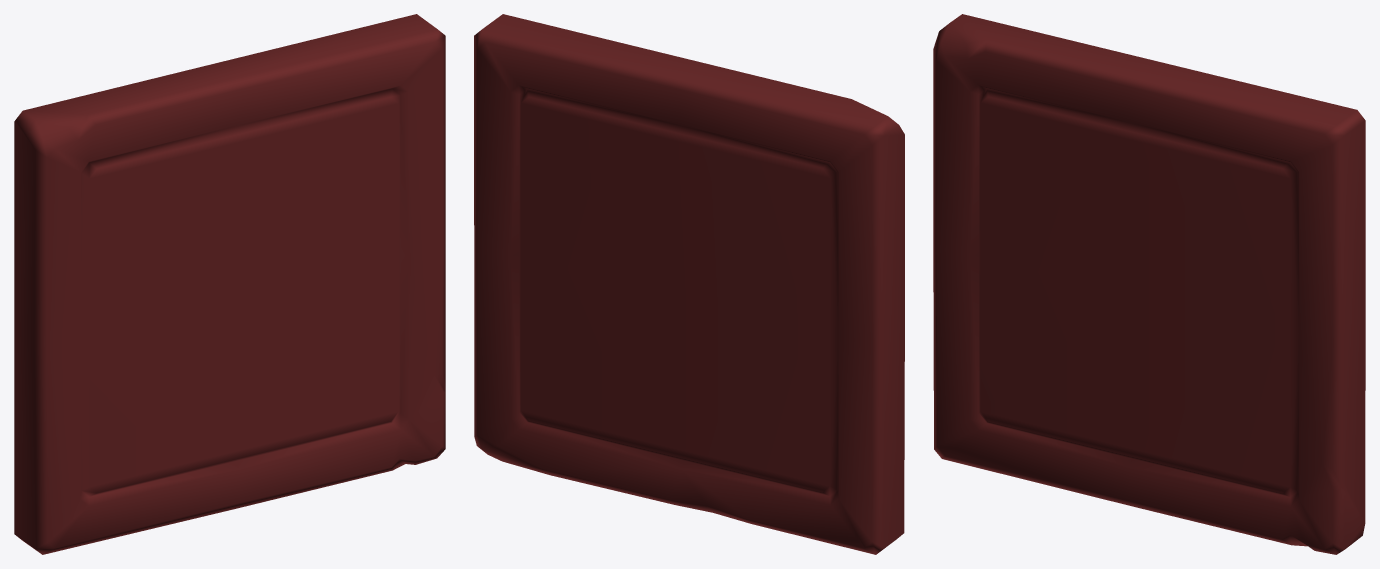
The model's file is PlatformShort.fbx.
3 views of the same model, side by side, from view 1: azimuth 30°, elevation 25°; view 2: azimuth 150°, elevation 25°; view 3: azimuth 330°, elevation 25° (orthographic).
Visible parts, largest first — view 1: PlatformShort; view 2: PlatformShort; view 3: PlatformShort.
Boxes of the visible parts, left/top/right/bottom form: PlatformShort: left=14, top=14, right=445, bottom=554; PlatformShort: left=474, top=14, right=904, bottom=554; PlatformShort: left=933, top=14, right=1365, bottom=554.
Bounding box in the file's own units: 400 × 400 × 50.
